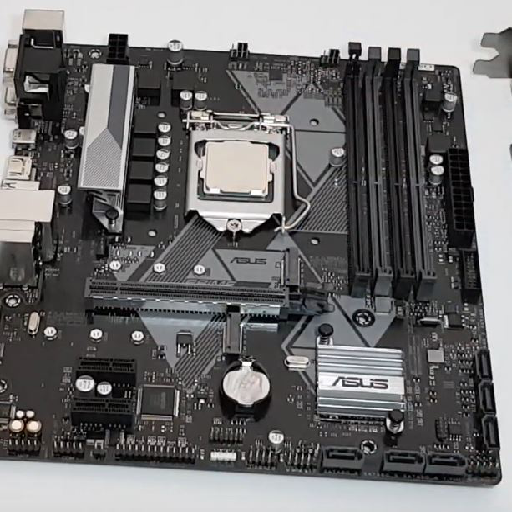CPU: (186, 108, 287, 238)
GPU: (82, 279, 336, 316)
MOTHERBOARD: (1, 38, 502, 487)
RAM: (343, 41, 437, 304)
SSD: (221, 314, 246, 359), (279, 247, 304, 288)
